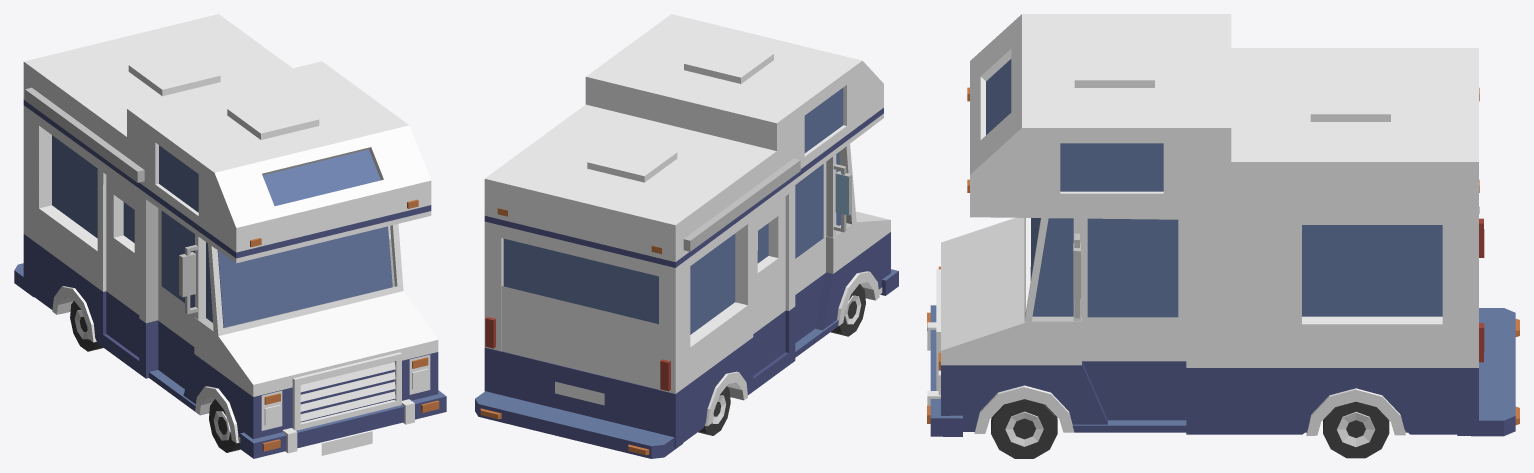
Rendered from transport_bus_008.glb.
The picture shows the model from 3 angles, left to right: view 1: azimuth 30°, elevation 25°; view 2: azimuth 150°, elevation 25°; view 3: azimuth 270°, elevation 25°; orthographic projection. The views are drawn at different scales.
Parts seen in each view (by area): view 1: transport_bus_008; view 2: transport_bus_008; view 3: transport_bus_008.
Boxes of the visible parts, x1,y1,x2,y2 form: transport_bus_008: [14, 14, 446, 458]; transport_bus_008: [475, 14, 898, 458]; transport_bus_008: [927, 14, 1519, 458].
Bounding box in the file's own units: 2.02 × 2.57 × 4.
1 material, 1 textured.
